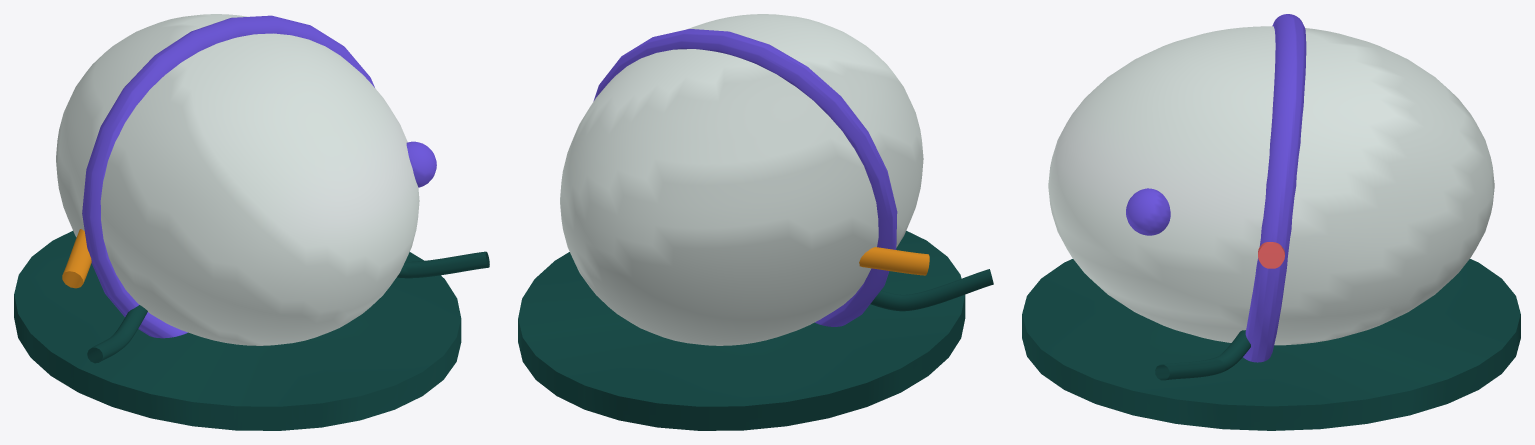
The model's file is 0195_人体图鉴_T细胞.glb.
3 views of the same model, side by side, from view 1: azimuth 30°, elevation 25°; view 2: azimuth 150°, elevation 25°; view 3: azimuth 270°, elevation 25° (orthographic).
Visible parts, largest first — view 1: card_0195; view 2: card_0195; view 3: card_0195.
Boxes of the visible parts, <box> form: card_0195: <box>14,14,489,430</box>; card_0195: <box>518,14,993,430</box>; card_0195: <box>1022,14,1520,430</box>.
Size of the model in its own units: 1.33 by 1 by 1.41.
